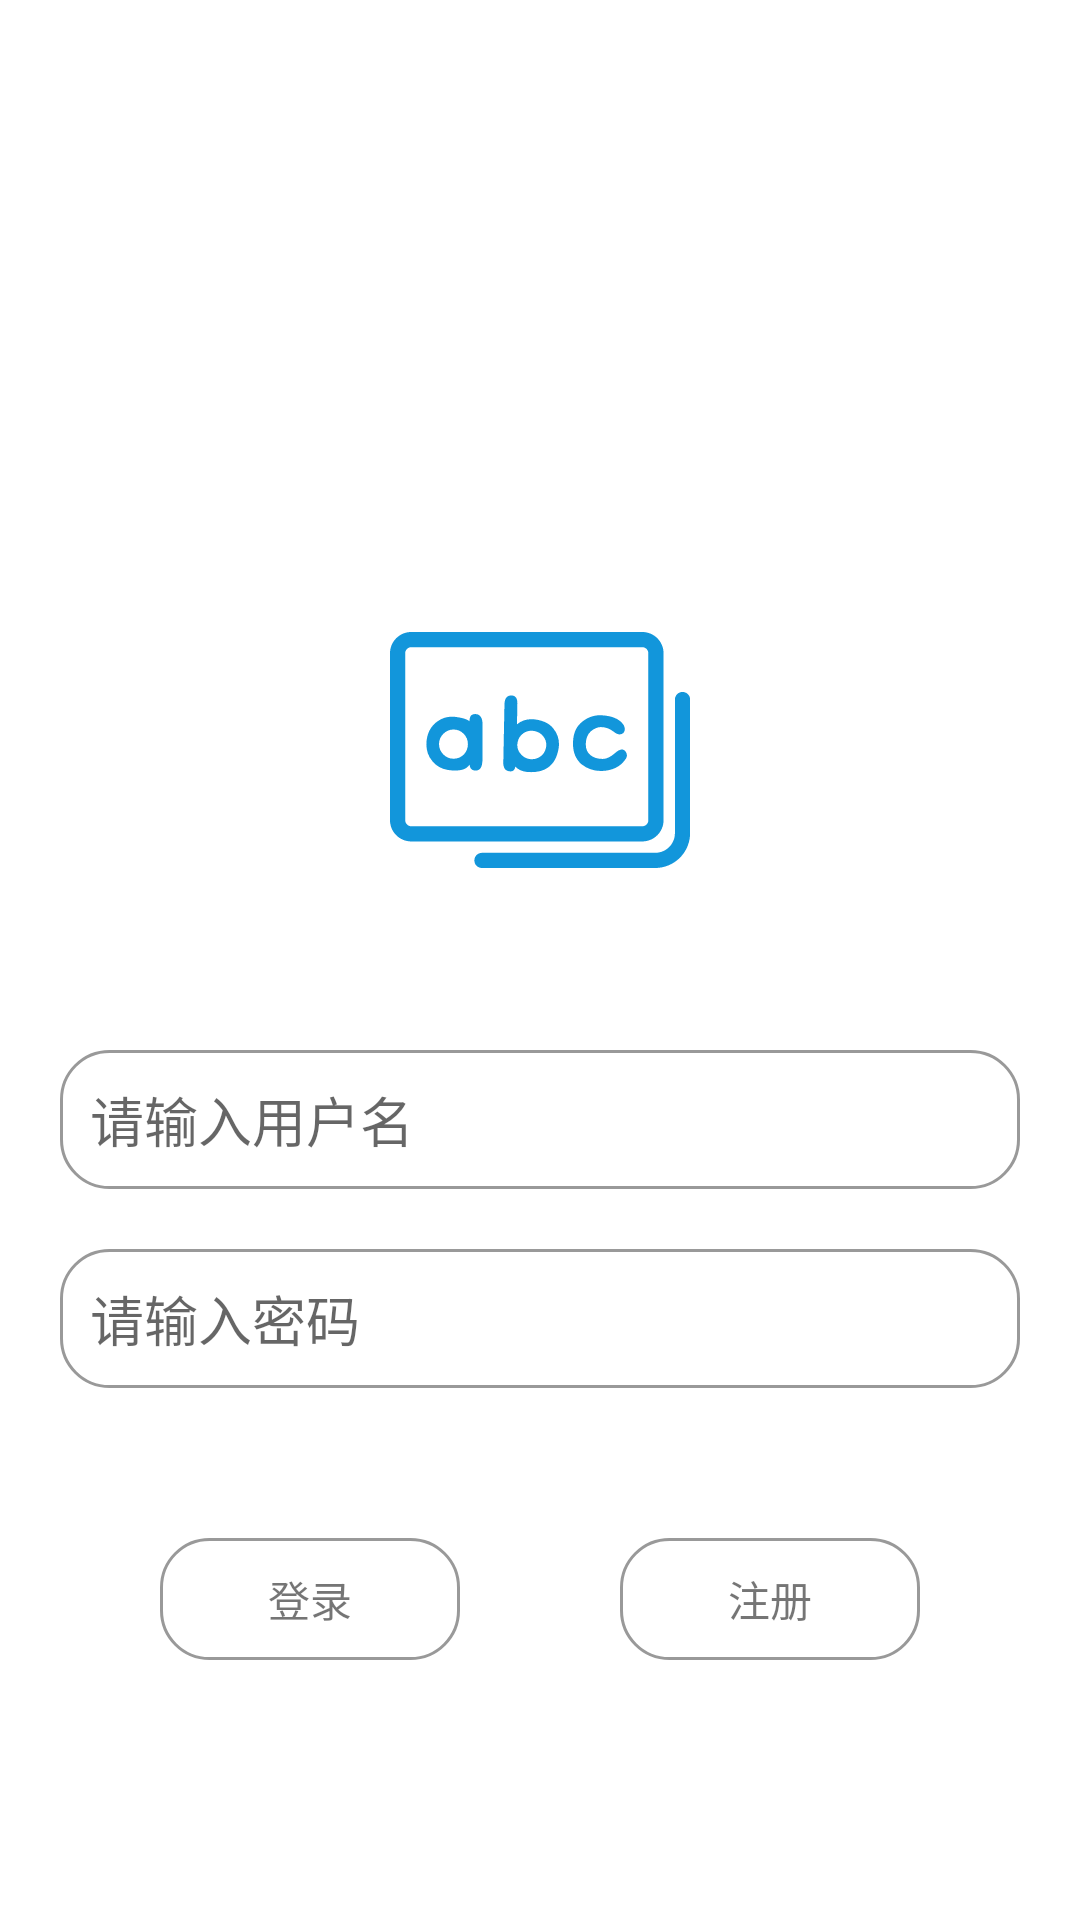

Where icons sit on this 1080 x 1920 app screen, as region(x1, y1, x2, y2):
word: region(390, 632, 690, 868)
